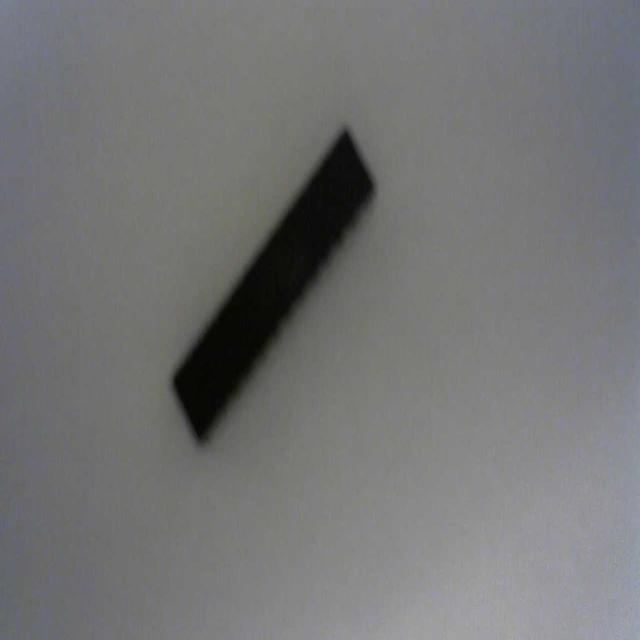atmega: (169, 122, 378, 448)
